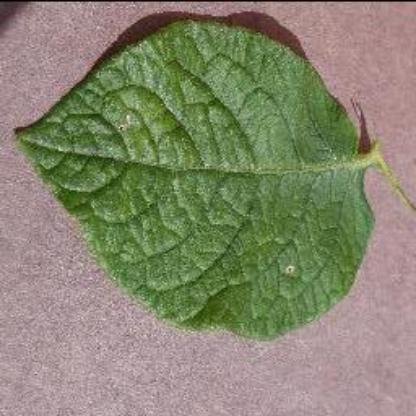Healthy-plant: (11, 11, 393, 351)
